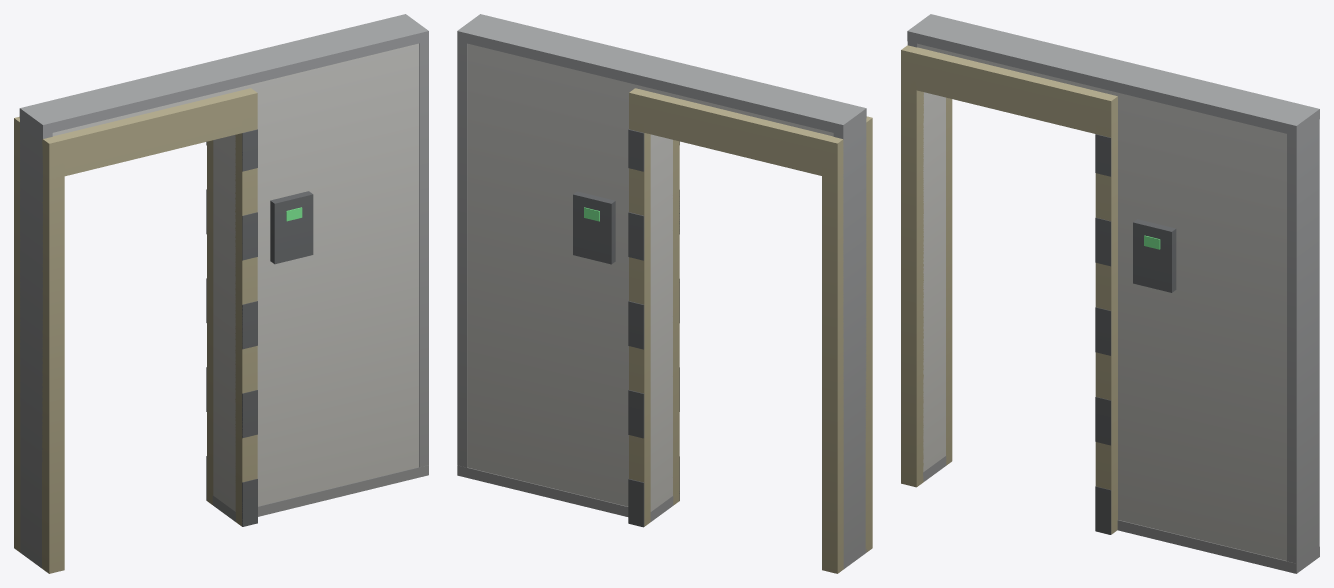
File: airlockWall_steel.glb
The picture shows the model from 3 angles, left to right: view 1: azimuth 30°, elevation 25°; view 2: azimuth 150°, elevation 25°; view 3: azimuth 330°, elevation 25°; orthographic projection.
Visible parts, largest first — view 1: airlockWall_steel; view 2: airlockWall_steel; view 3: airlockWall_steel.
Part boxes in pixels (left/top/right/bottom): airlockWall_steel: left=14, top=14, right=428, bottom=573; airlockWall_steel: left=457, top=14, right=872, bottom=573; airlockWall_steel: left=901, top=14, right=1319, bottom=573.
Size of the model in its own units: 2 by 2.2 by 0.326.
